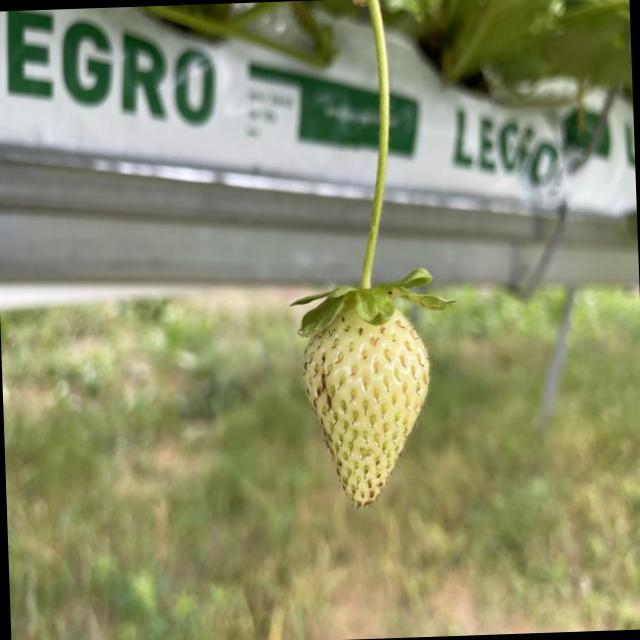stem: (293, 0, 449, 332)
strawberryNR: (303, 307, 427, 506)
